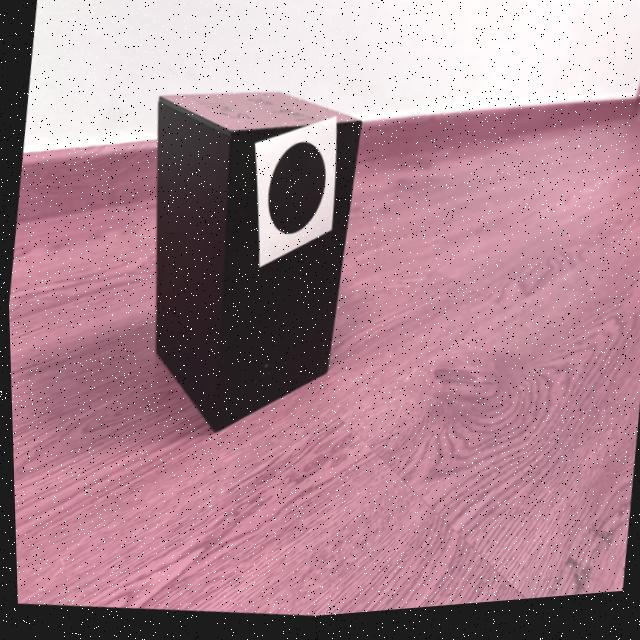CIRCLE: (266, 147, 324, 239)
